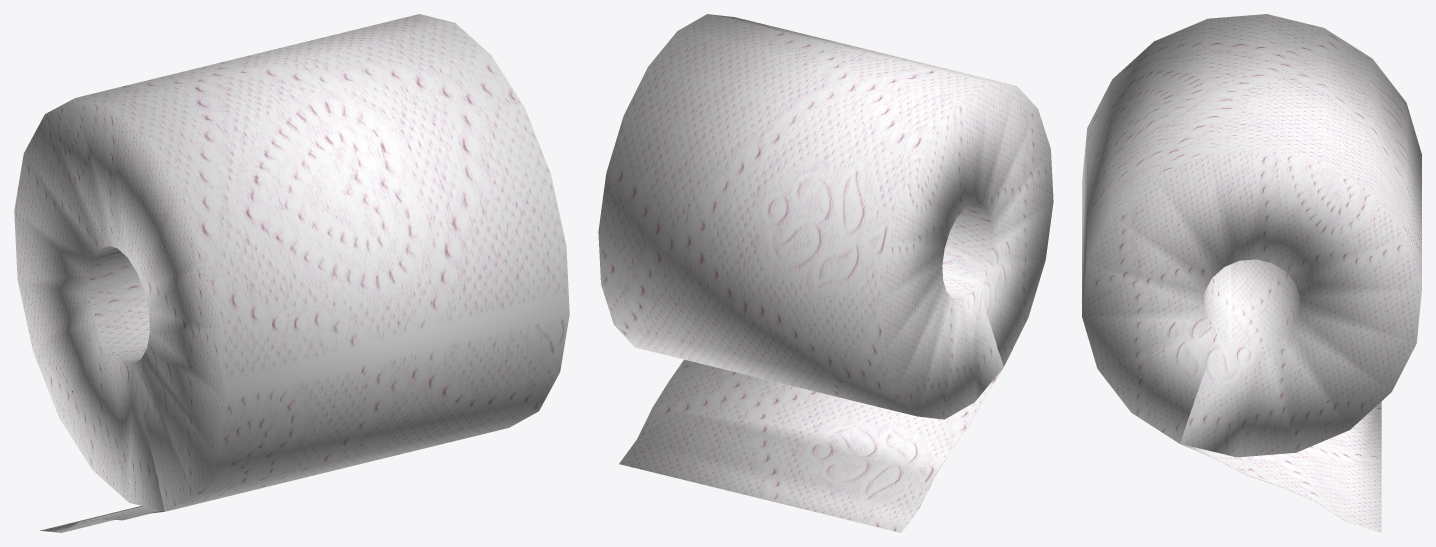
Rendered from papel.obj.
The picture shows the model from 3 angles, left to right: view 1: azimuth 30°, elevation 25°; view 2: azimuth 150°, elevation 25°; view 3: azimuth 270°, elevation 25°; orthographic projection. The views are drawn at different scales.
Parts seen in each view (by area): view 1: Tube002; view 2: Tube002; view 3: Tube002.
Boxes of the visible parts, <box> form: Tube002: <box>14,14,569,532</box>; Tube002: <box>598,14,1053,532</box>; Tube002: <box>1082,14,1421,532</box>.
Bounding box in the file's own units: 55.92 × 73.86 × 59.32.
1 material, 1 textured.
